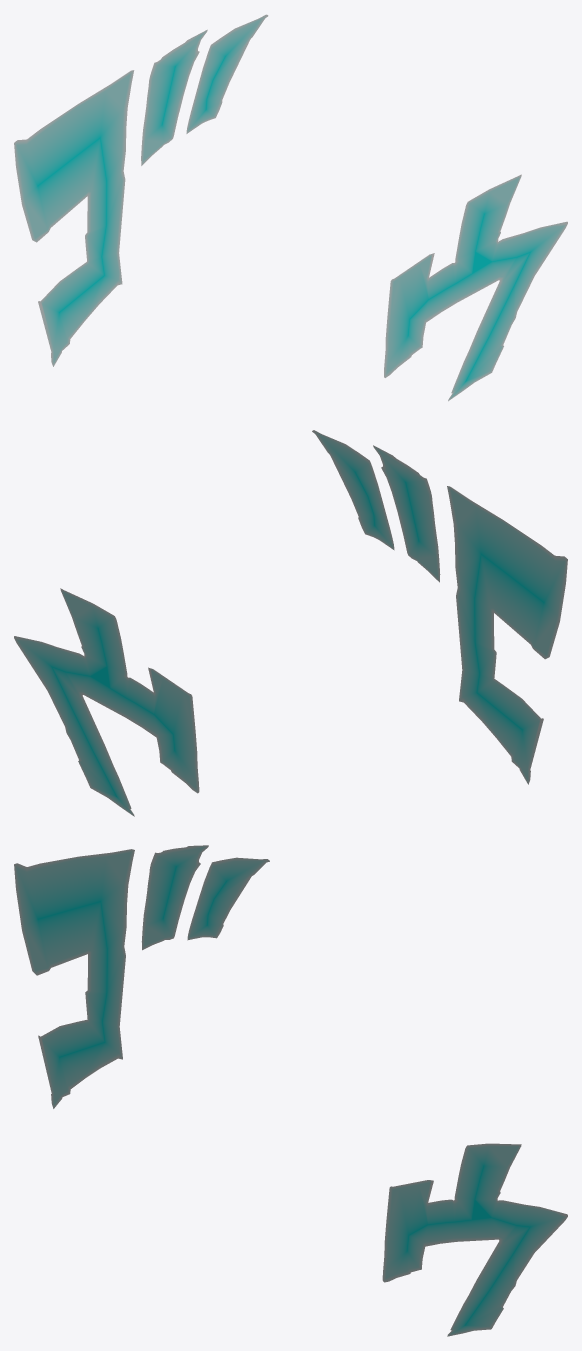
The model's file is SM_EFF_Text_MightGuy_03.glb.
The picture shows the model from 3 angles, top to bottom: view 1: azimuth 30°, elevation 25°; view 2: azimuth 150°, elevation 25°; view 3: azimuth 330°, elevation 25°; orthographic projection.
Parts seen in each view (by area): view 1: SM_EFF_Text_MightGuy_03; view 2: SM_EFF_Text_MightGuy_03; view 3: SM_EFF_Text_MightGuy_03.
Boxes of the visible parts, x1=… form: SM_EFF_Text_MightGuy_03: x1=14, y1=14, x2=567, y2=401; SM_EFF_Text_MightGuy_03: x1=14, y1=430, x2=567, y2=816; SM_EFF_Text_MightGuy_03: x1=14, y1=845, x2=567, y2=1336.
Size of the model in its own units: 0.9684 by 0.72 by 0.005.
